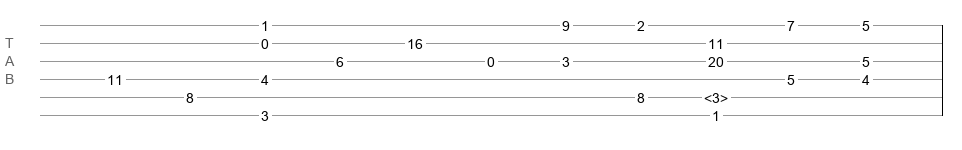0: (261, 36, 269, 46), (487, 54, 495, 64)
1: (261, 18, 269, 28), (712, 108, 720, 118)
11: (107, 72, 123, 82), (708, 36, 724, 46)
16: (407, 36, 423, 46)
2: (637, 18, 645, 28)
20: (708, 54, 724, 64)
3: (261, 108, 269, 118), (562, 54, 570, 64)
4: (261, 72, 269, 82), (862, 72, 870, 82)
5: (787, 72, 795, 82), (862, 54, 870, 64), (862, 18, 870, 28)
6: (336, 54, 344, 64)
7: (787, 18, 795, 28)
8: (186, 90, 194, 100), (637, 90, 645, 100)
9: (562, 18, 570, 28)
harmonic: (704, 90, 728, 100)
